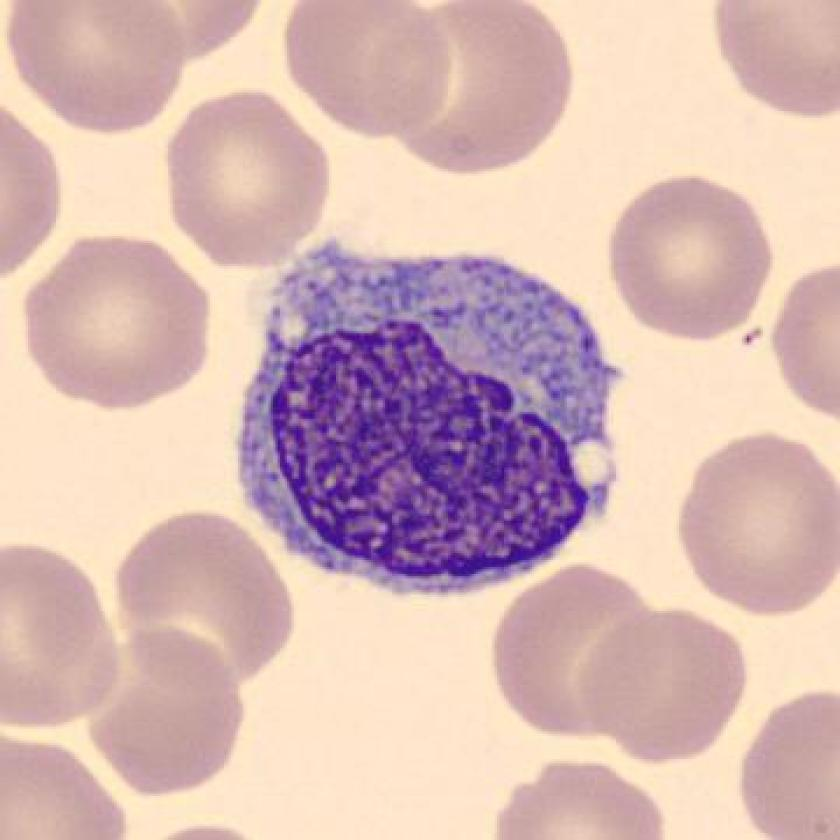monocyte: (216, 221, 645, 621)
